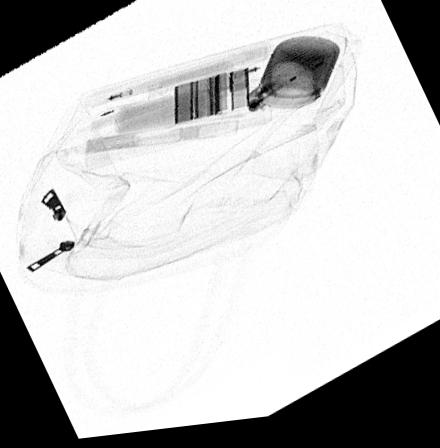Lighter: (246, 60, 331, 120)
